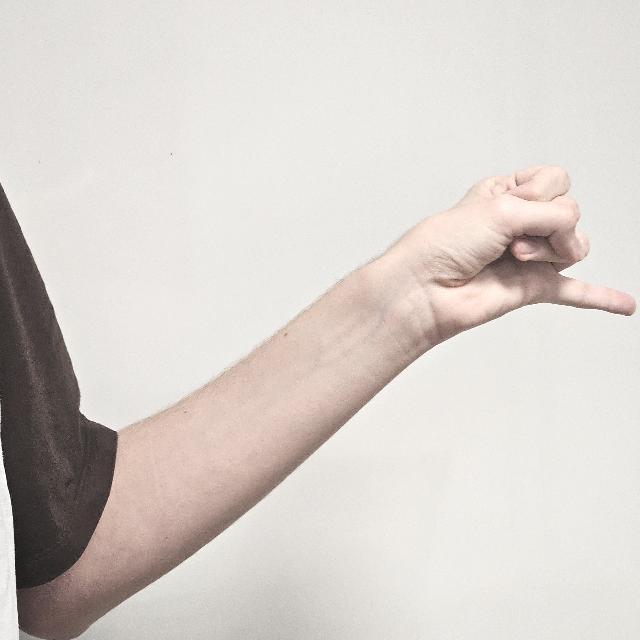Esquerda: (399, 182, 637, 326)
